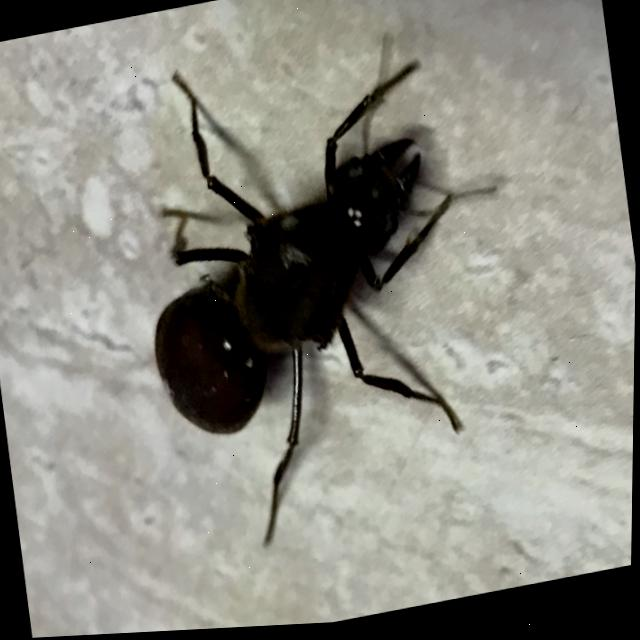Alive-Female-Dealate: (115, 16, 543, 569)
